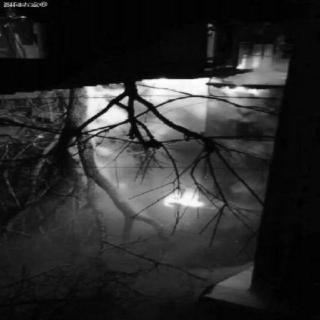Fire: (67, 45, 273, 151)
